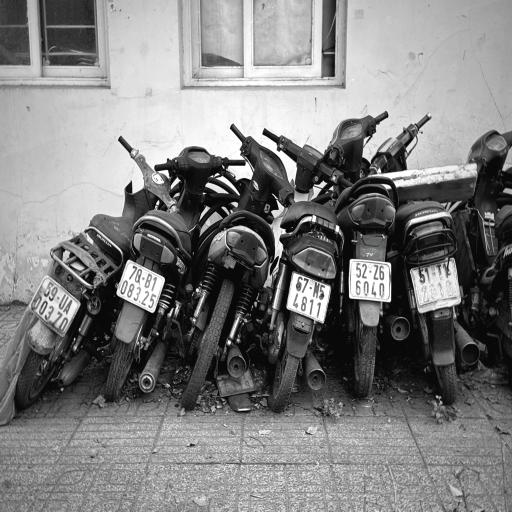place: (412, 264, 462, 306), (292, 273, 327, 317), (125, 262, 159, 307), (351, 259, 390, 297), (44, 279, 72, 330)
